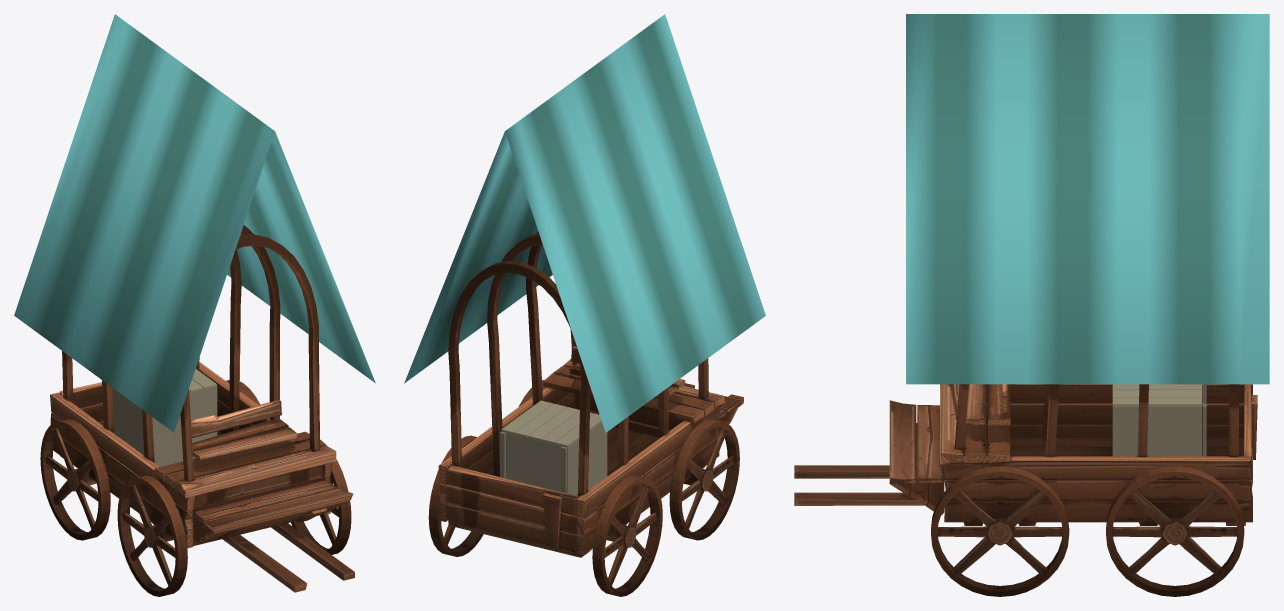
File: astra_t02.glb
3 views of the same model, side by side, from view 1: azimuth 30°, elevation 25°; view 2: azimuth 150°, elevation 25°; view 3: azimuth 270°, elevation 25° (orthographic). The views are drawn at different scales.
Parts seen in each view (by area): view 1: replacement_canopy, slot_anchor_frame, slot_front_wheels, cargo_crate; view 2: replacement_canopy, slot_anchor_frame, slot_front_wheels, cargo_crate, wood_plank_2, wood_plank_4, wood_plank_3, wood_plank_1; view 3: replacement_canopy, slot_anchor_frame, slot_front_wheels, cargo_crate, wood_plank_4, wood_plank_3.
Boxes of the visible parts, x1,y1,x2,y2 form: replacement_canopy: (14,14,375,432); slot_anchor_frame: (40,225,354,592); slot_front_wheels: (117,439,351,596); cargo_crate: (112,386,217,466); replacement_canopy: (404,14,765,432); slot_anchor_frame: (428,231,743,596); slot_front_wheels: (518,379,739,540); cargo_crate: (502,422,607,495); wood_plank_2: (528,407,579,441); wood_plank_4: (501,400,553,434); wood_plank_3: (514,403,566,437); wood_plank_1: (541,411,593,444); replacement_canopy: (906,14,1269,384); slot_anchor_frame: (794,384,1257,596); slot_front_wheels: (931,466,1069,596); cargo_crate: (1112,406,1202,456); wood_plank_4: (1112,397,1202,406); wood_plank_3: (1112,390,1202,397).
Bounding box in the file's own units: 1.12 × 2.5 × 2.01.
10 materials, 1 textured.
